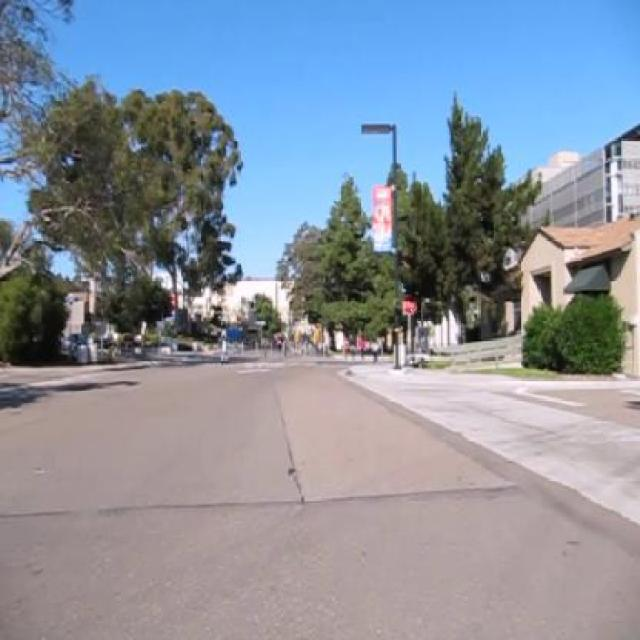stop: (400, 292, 418, 314)
